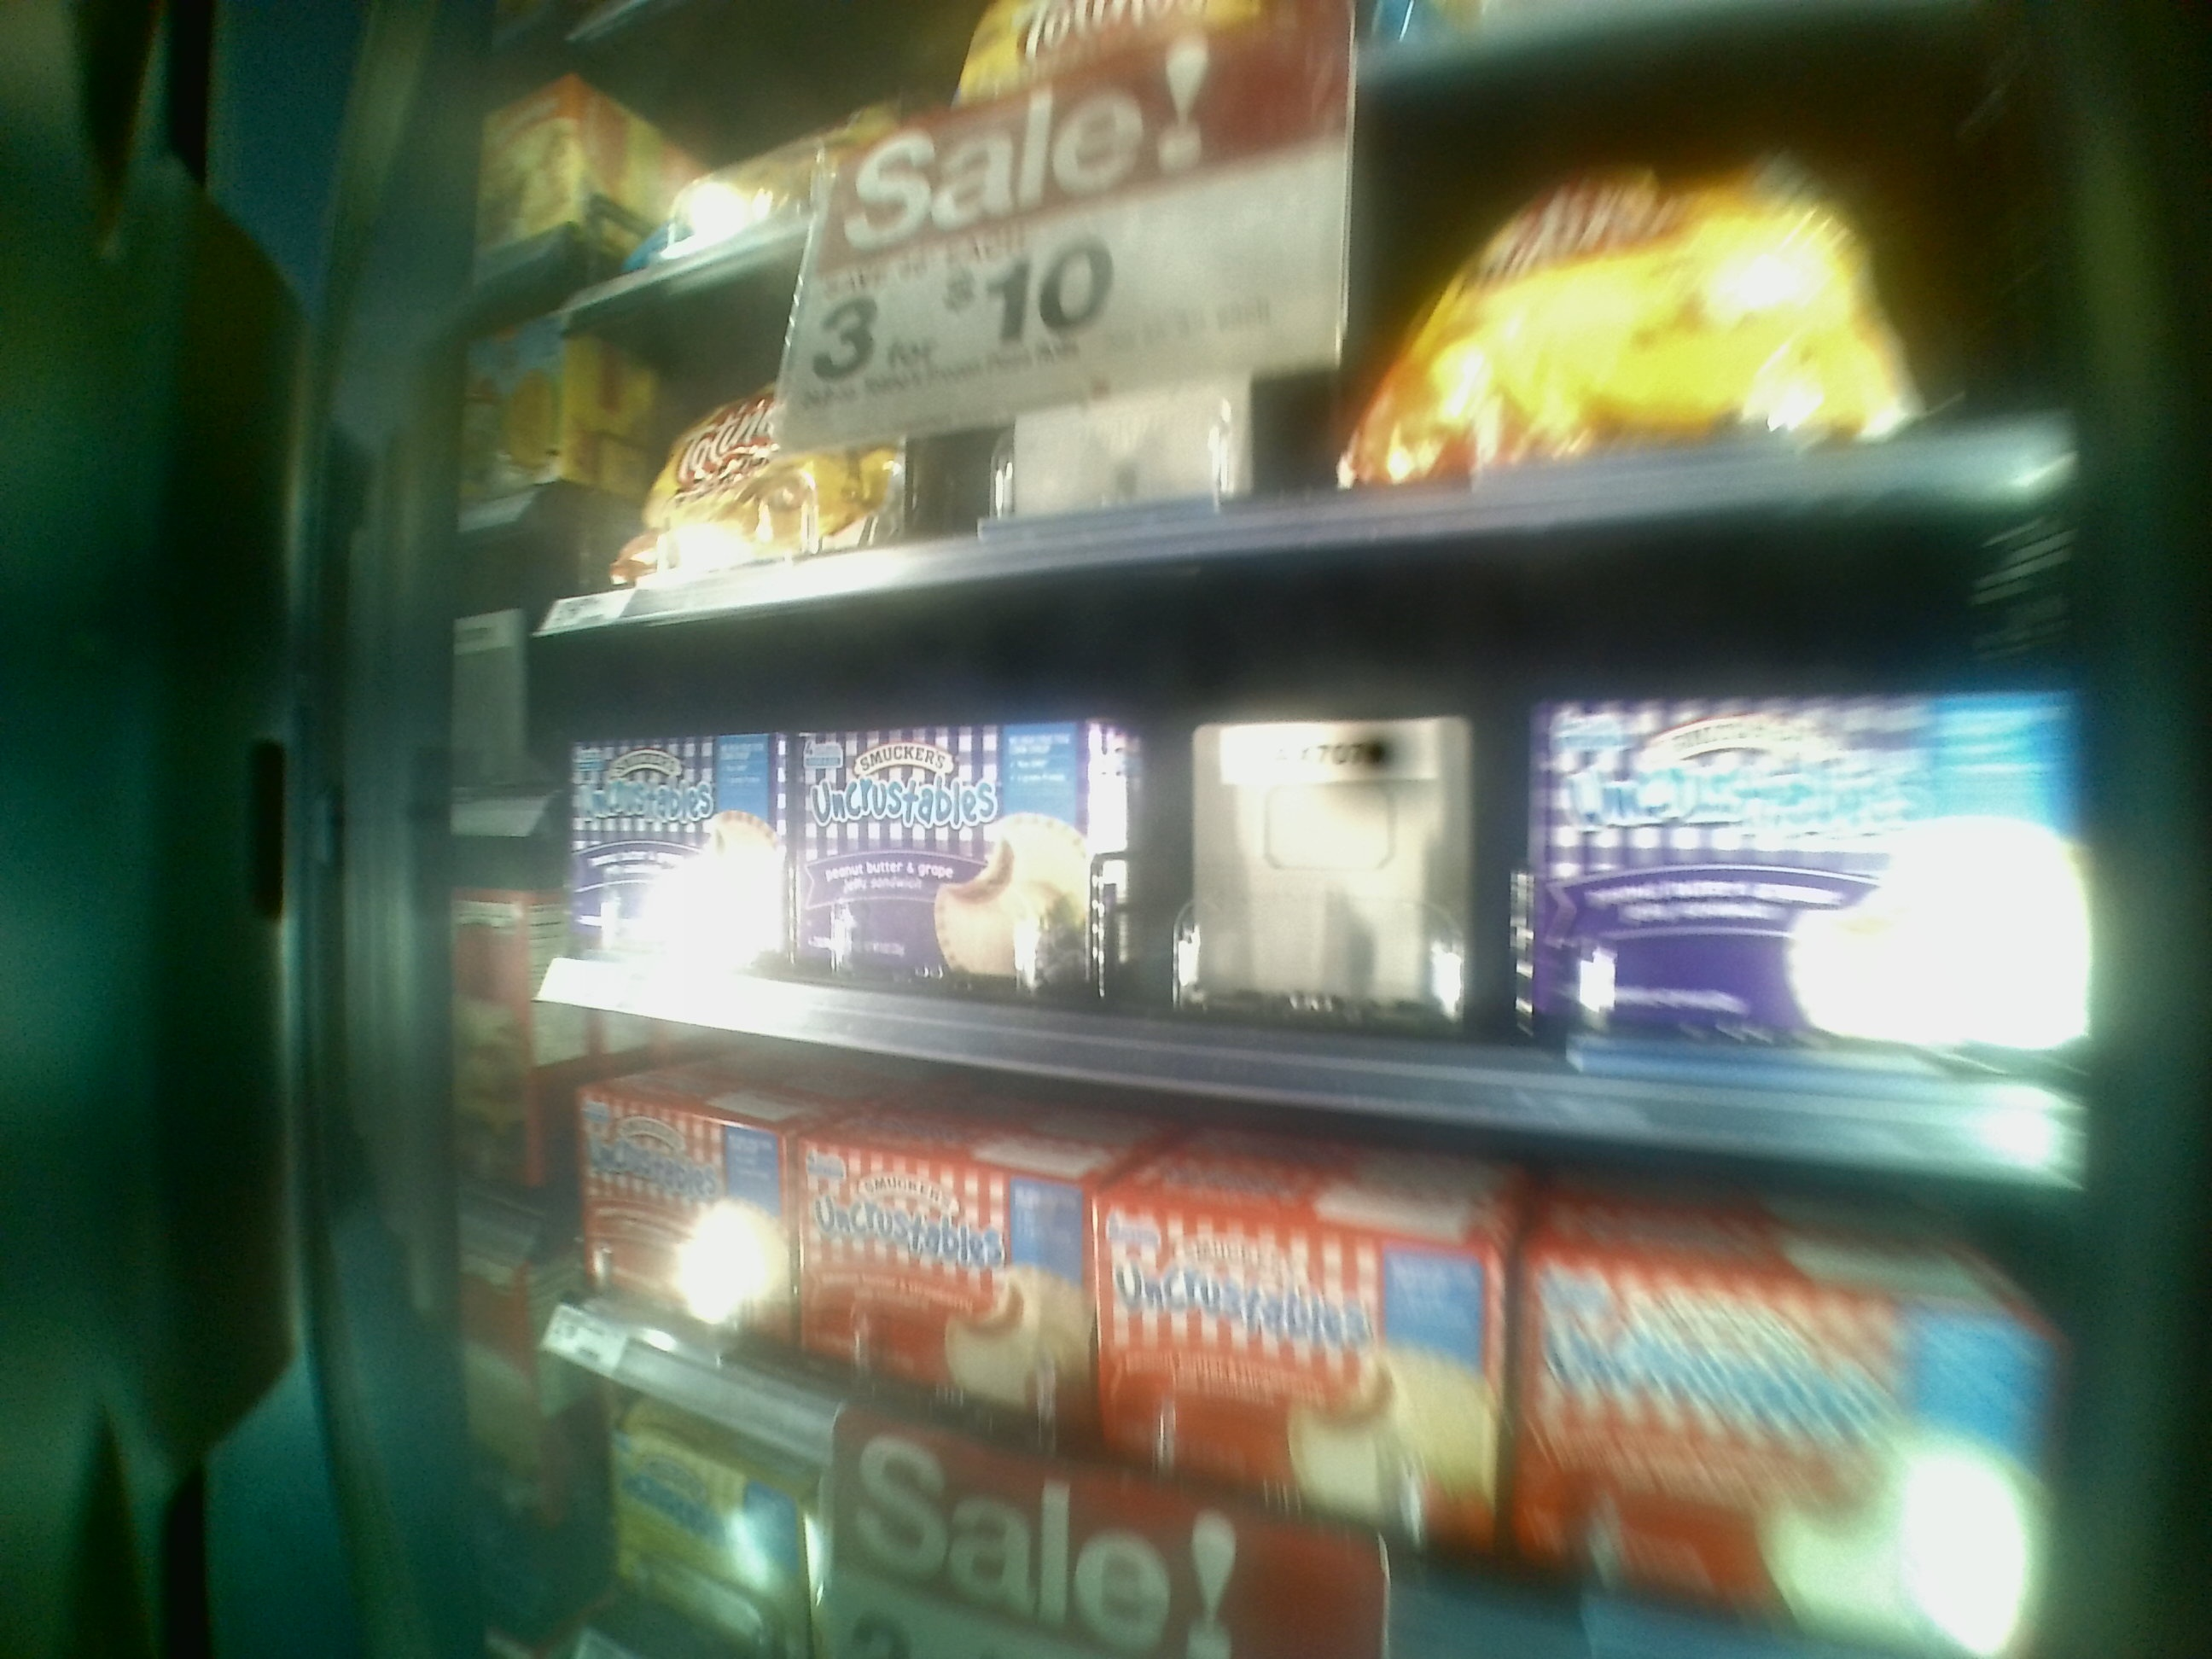shelf: (509, 619, 2095, 1171), (469, 173, 2094, 599)
